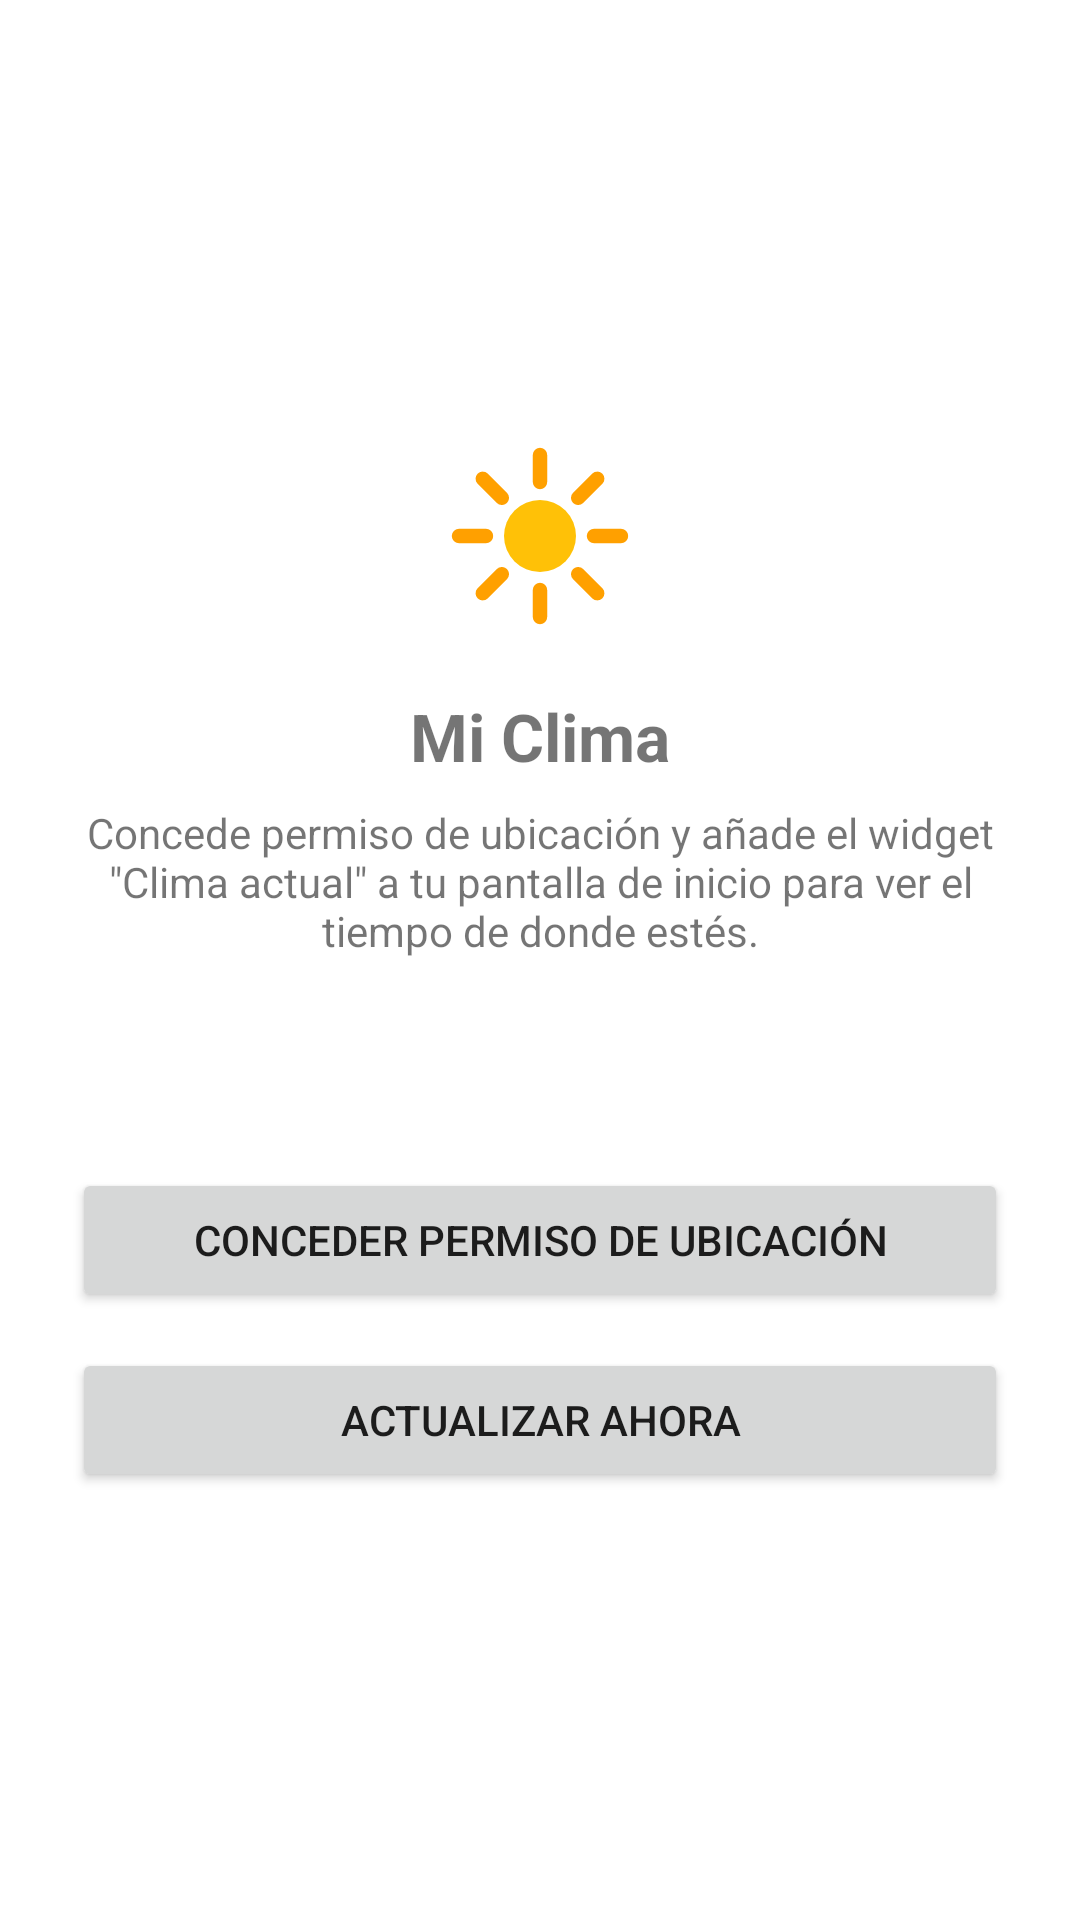

Icon bounding boxes for this 1080px x 1920px phone screenshot, format box(x1, y1, x2, y2):
weather sunny: box(451, 447, 628, 625)
